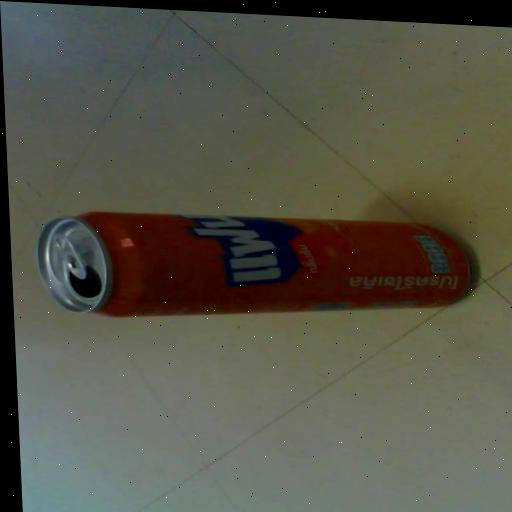canned: (15, 189, 495, 354)
